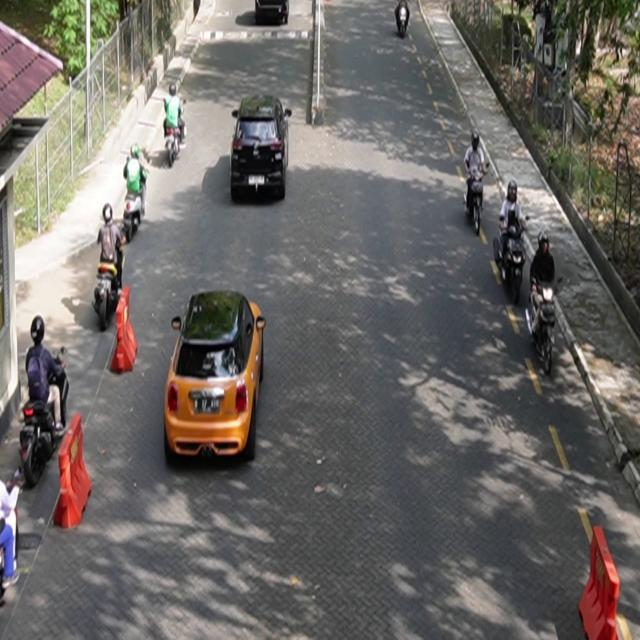car: (165, 290, 267, 463), (231, 94, 293, 202), (255, 1, 289, 25)
